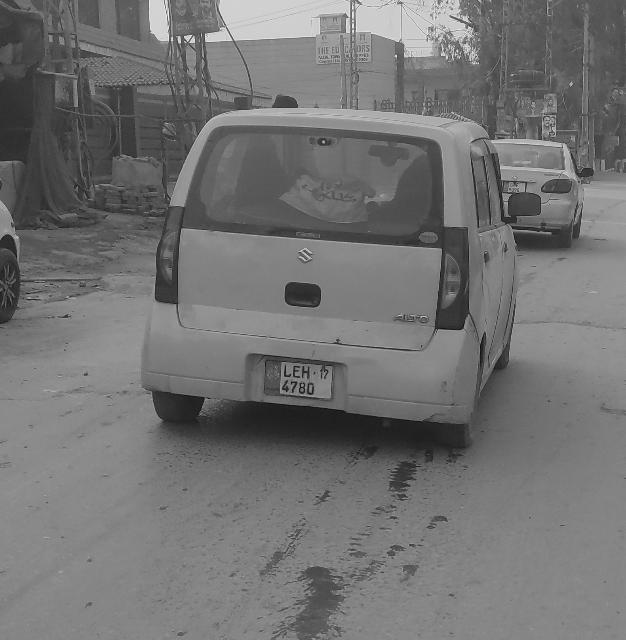Number: (282, 364, 316, 394)
